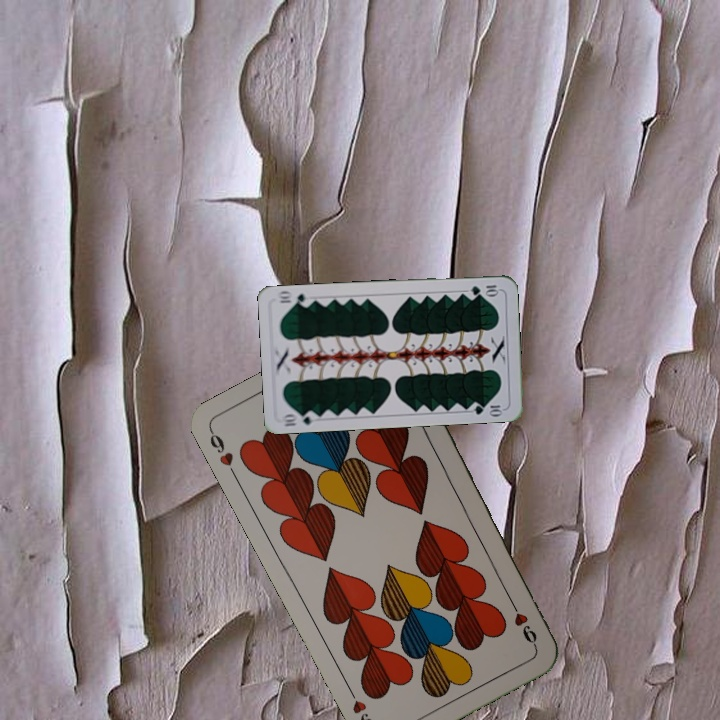G10: (279, 408, 319, 429), (467, 281, 501, 298)
H9: (505, 595, 540, 650), (205, 426, 240, 481)
